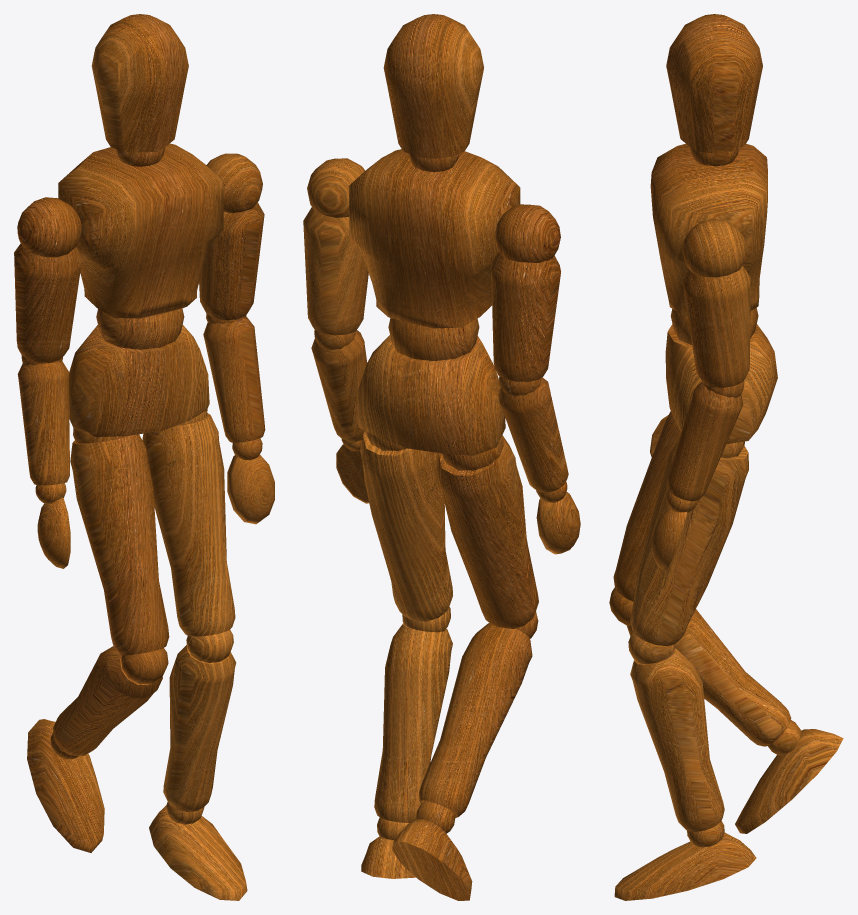
Rendered from dummy_obj_3.obj.
The picture shows the model from 3 angles, left to right: view 1: azimuth 30°, elevation 25°; view 2: azimuth 150°, elevation 25°; view 3: azimuth 270°, elevation 25°; orthographic projection. The views are drawn at different scales.
Visible parts, largest first — view 1: dummy_hips3_dummy_belly_dummy_torso, dummy_hips3_dummy_rpelvis_dummy_rupleg, dummy_hips3_dummy_lpelvis_dummy_lupleg, dummy_hips3, dummy_hips3_dummy_belly_dummy_torso_dummy_neck_dummy_headq, dummy_hips3_dummy_lpelvis_dummy_lupleg_dummy_lknee_dummy_lleg, dummy_hips3_dummy_belly_dummy_torso_dummy_rshoulder_dummy_rarm, dummy_hips3_dummy_rpelvis_dummy_rupleg_dummy_rknee_dummy_rleg_d, dummy_hips3_dummy_belly_dummy_torso_dummy_lshoulder_dummy_l.000, dummy_hips3_dummy_belly_dummy_torso_dummy_rshoulder_dummy_r.001, dummy_hips3_dummy_rpelvis_dummy_rupleg_dummy_rknee_dummy_rleg, dummy_hips3_dummy_belly_dummy_torso_dummy_lshoulder_dummy_larm (+9 smaller); view 2: dummy_hips3_dummy_belly_dummy_torso, dummy_hips3, dummy_hips3_dummy_rpelvis_dummy_rupleg, dummy_hips3_dummy_lpelvis_dummy_lupleg, dummy_hips3_dummy_belly_dummy_torso_dummy_neck_dummy_headq, dummy_hips3_dummy_rpelvis_dummy_rupleg_dummy_rknee_dummy_rleg, dummy_hips3_dummy_lpelvis_dummy_lupleg_dummy_lknee_dummy_lleg, dummy_hips3_dummy_belly_dummy_torso_dummy_rshoulder_dummy_rarm, dummy_hips3_dummy_belly_dummy_torso_dummy_lshoulder_dummy_larm, dummy_hips3_dummy_belly_dummy_torso_dummy_rshoulder_dummy_r.001, dummy_hips3_dummy_rpelvis_dummy_rupleg_dummy_rknee_dummy_rleg_d, dummy_hips3_dummy_belly_dummy_torso_dummy_lshoulder_dummy_l.000 (+10 smaller); view 3: dummy_hips3_dummy_belly_dummy_torso, dummy_hips3_dummy_lpelvis_dummy_lupleg, dummy_hips3_dummy_belly_dummy_torso_dummy_neck_dummy_headq, dummy_hips3_dummy_lpelvis_dummy_lupleg_dummy_lknee_dummy_lleg, dummy_hips3_dummy_belly_dummy_torso_dummy_lshoulder_dummy_larm, dummy_hips3_dummy_rpelvis_dummy_rupleg_dummy_rknee_dummy_rleg, dummy_hips3, dummy_hips3_dummy_belly_dummy_torso_dummy_lshoulder_dummy_l.000, dummy_hips3_dummy_lpelvis_dummy_lupleg_dummy_lknee_dummy_ll.000, dummy_hips3_dummy_rpelvis_dummy_rupleg_dummy_rknee_dummy_rleg_d, dummy_hips3_dummy_rpelvis_dummy_rupleg, dummy_hips3_dummy_belly_dummy_torso_dummy_lshoulder (+7 smaller).
Boxes of the visible parts, box(x1,y1,x2,y2) form: dummy_hips3_dummy_belly_dummy_torso: box(58, 143, 223, 318); dummy_hips3_dummy_rpelvis_dummy_rupleg: box(70, 434, 169, 655); dummy_hips3_dummy_lpelvis_dummy_lupleg: box(142, 413, 235, 636); dummy_hips3: box(69, 325, 209, 437); dummy_hips3_dummy_belly_dummy_torso_dummy_neck_dummy_headq: box(91, 14, 188, 152); dummy_hips3_dummy_lpelvis_dummy_lupleg_dummy_lknee_dummy_lleg: box(163, 645, 236, 811); dummy_hips3_dummy_belly_dummy_torso_dummy_rshoulder_dummy_rarm: box(14, 243, 81, 362); dummy_hips3_dummy_rpelvis_dummy_rupleg_dummy_rknee_dummy_rleg_d: box(27, 719, 104, 852); dummy_hips3_dummy_belly_dummy_torso_dummy_lshoulder_dummy_l.000: box(203, 316, 265, 442); dummy_hips3_dummy_belly_dummy_torso_dummy_rshoulder_dummy_r.001: box(17, 361, 69, 485); dummy_hips3_dummy_rpelvis_dummy_rupleg_dummy_rknee_dummy_rleg: box(53, 646, 162, 755); dummy_hips3_dummy_belly_dummy_torso_dummy_lshoulder_dummy_larm: box(199, 202, 264, 320); dummy_hips3_dummy_belly_dummy_torso: box(349, 149, 520, 328); dummy_hips3: box(356, 335, 505, 455); dummy_hips3_dummy_rpelvis_dummy_rupleg: box(436, 435, 538, 628); dummy_hips3_dummy_lpelvis_dummy_lupleg: box(360, 431, 452, 621); dummy_hips3_dummy_belly_dummy_torso_dummy_neck_dummy_headq: box(383, 14, 483, 158); dummy_hips3_dummy_rpelvis_dummy_rupleg_dummy_rknee_dummy_rleg: box(419, 623, 532, 817); dummy_hips3_dummy_lpelvis_dummy_lupleg_dummy_lknee_dummy_lleg: box(374, 623, 452, 822); dummy_hips3_dummy_belly_dummy_torso_dummy_rshoulder_dummy_rarm: box(491, 252, 560, 381); dummy_hips3_dummy_belly_dummy_torso_dummy_lshoulder_dummy_larm: box(303, 207, 368, 335); dummy_hips3_dummy_belly_dummy_torso_dummy_rshoulder_dummy_r.001: box(498, 377, 568, 492); dummy_hips3_dummy_rpelvis_dummy_rupleg_dummy_rknee_dummy_rleg_d: box(392, 819, 472, 900); dummy_hips3_dummy_belly_dummy_torso_dummy_lshoulder_dummy_l.000: box(311, 330, 367, 441); dummy_hips3_dummy_belly_dummy_torso: box(650, 143, 767, 315); dummy_hips3_dummy_lpelvis_dummy_lupleg: box(630, 438, 748, 646); dummy_hips3_dummy_belly_dummy_torso_dummy_neck_dummy_headq: box(666, 14, 762, 153); dummy_hips3_dummy_lpelvis_dummy_lupleg_dummy_lknee_dummy_lleg: box(630, 648, 724, 831); dummy_hips3_dummy_belly_dummy_torso_dummy_lshoulder_dummy_larm: box(682, 265, 750, 387); dummy_hips3_dummy_rpelvis_dummy_rupleg_dummy_rknee_dummy_rleg: box(626, 609, 791, 746); dummy_hips3: box(665, 324, 777, 443); dummy_hips3_dummy_belly_dummy_torso_dummy_lshoulder_dummy_l.000: box(667, 382, 743, 501); dummy_hips3_dummy_lpelvis_dummy_lupleg_dummy_lknee_dummy_ll.000: box(614, 832, 756, 900); dummy_hips3_dummy_rpelvis_dummy_rupleg_dummy_rknee_dummy_rleg_d: box(735, 729, 843, 833); dummy_hips3_dummy_rpelvis_dummy_rupleg: box(613, 411, 681, 601); dummy_hips3_dummy_belly_dummy_torso_dummy_lshoulder: box(682, 218, 746, 277).
Bounding box in the file's own units: 52.56 × 179 × 44.42.
Materials: 1 (1 with a texture image).
